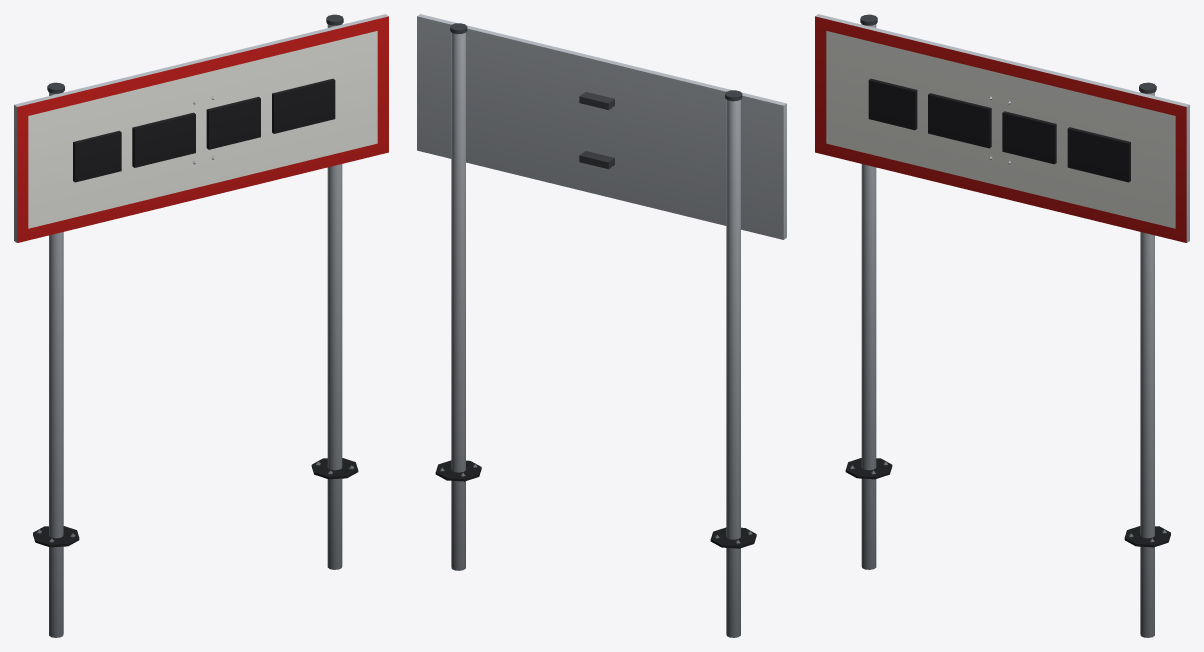
The model's file is Sign_Town.fbx.
3 views of the same model, side by side, from view 1: azimuth 30°, elevation 25°; view 2: azimuth 150°, elevation 25°; view 3: azimuth 330°, elevation 25° (orthographic).
Visible parts, largest first — view 1: Sign_Town_LOD0; view 2: Sign_Town_LOD0; view 3: Sign_Town_LOD0.
Part boxes in pixels (<box>): Sign_Town_LOD0: <box>14,14,388,637</box>; Sign_Town_LOD0: <box>417,14,786,637</box>; Sign_Town_LOD0: <box>815,14,1189,637</box>.
Size of what is drawn, in the model's own units: 2 by 2.82 by 0.224.
1 material, 1 textured.
